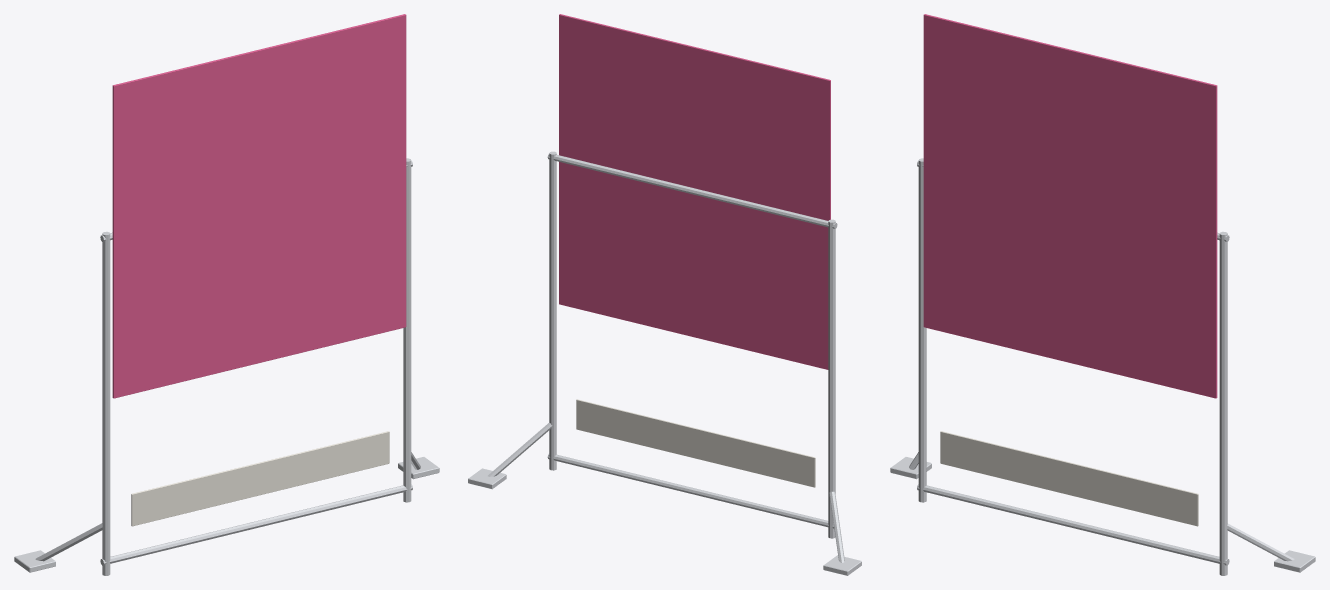
Rendered from live-music-venue-and-festival-stage-backdrop-banner-fr-7ebd4df6.glb.
3 views of the same model, side by side, from view 1: azimuth 30°, elevation 25°; view 2: azimuth 150°, elevation 25°; view 3: azimuth 330°, elevation 25° (orthographic). The views are drawn at different scales.
Parts seen in each view (by area): view 1: backdrop-banner-frame; view 2: backdrop-banner-frame; view 3: backdrop-banner-frame.
Part boxes in pixels (x1,y1,x2,y2): backdrop-banner-frame: (14, 14, 439, 575); backdrop-banner-frame: (468, 14, 861, 575); backdrop-banner-frame: (890, 14, 1315, 575).
Size of the model in its own units: 3.98 by 4.56 by 0.6991.
